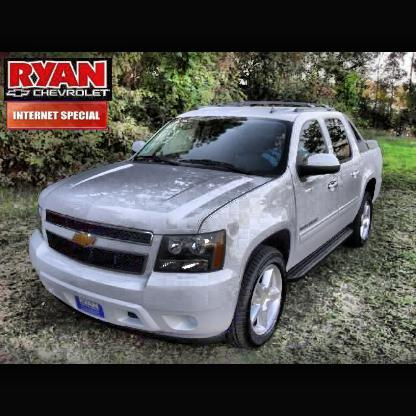Chevrolet Avalanche Crew Cab 2012: (30, 107, 384, 346)
